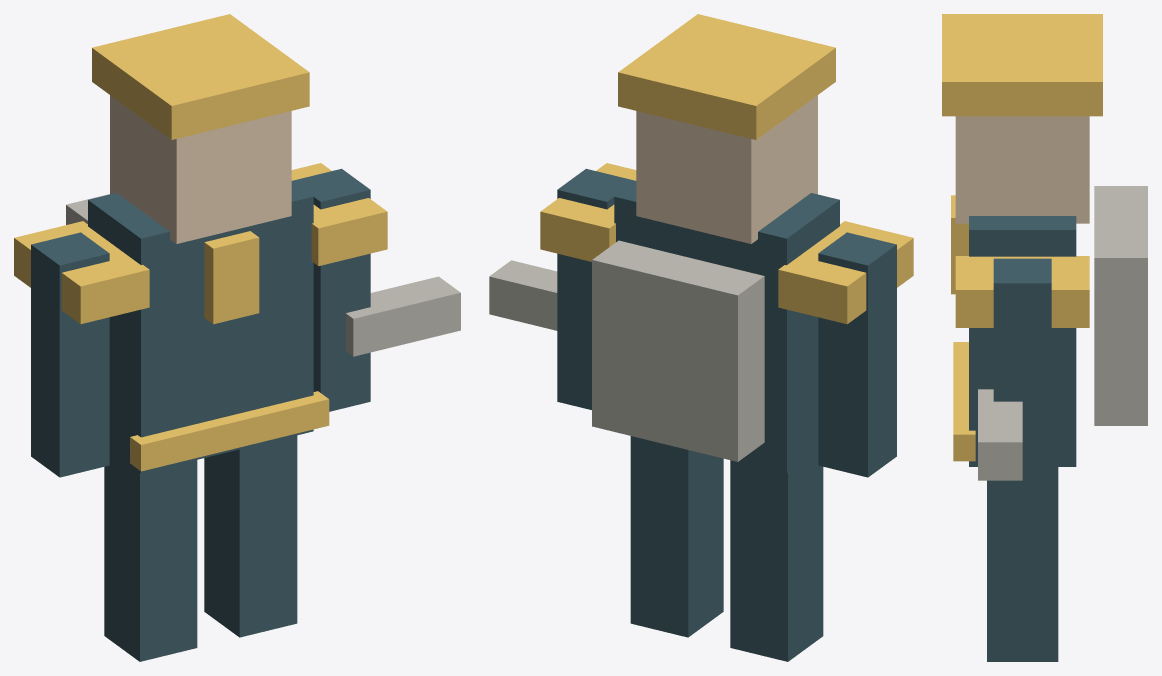
The model's file is 15_zerin_ironwake_mechanist_under.glb.
The picture shows the model from 3 angles, left to right: view 1: azimuth 30°, elevation 25°; view 2: azimuth 150°, elevation 25°; view 3: azimuth 270°, elevation 25°; orthographic projection.
Parts seen in each view (by area): view 1: Zerin Ironwake, Mechanist under; view 2: Zerin Ironwake, Mechanist under; view 3: Zerin Ironwake, Mechanist under.
Boxes of the visible parts, x1,y1,x2,y2 form: Zerin Ironwake, Mechanist under: [14, 14, 460, 661]; Zerin Ironwake, Mechanist under: [489, 14, 913, 661]; Zerin Ironwake, Mechanist under: [942, 14, 1147, 661].
Size of the model in its own units: 1.05 by 1.45 by 0.4706.
